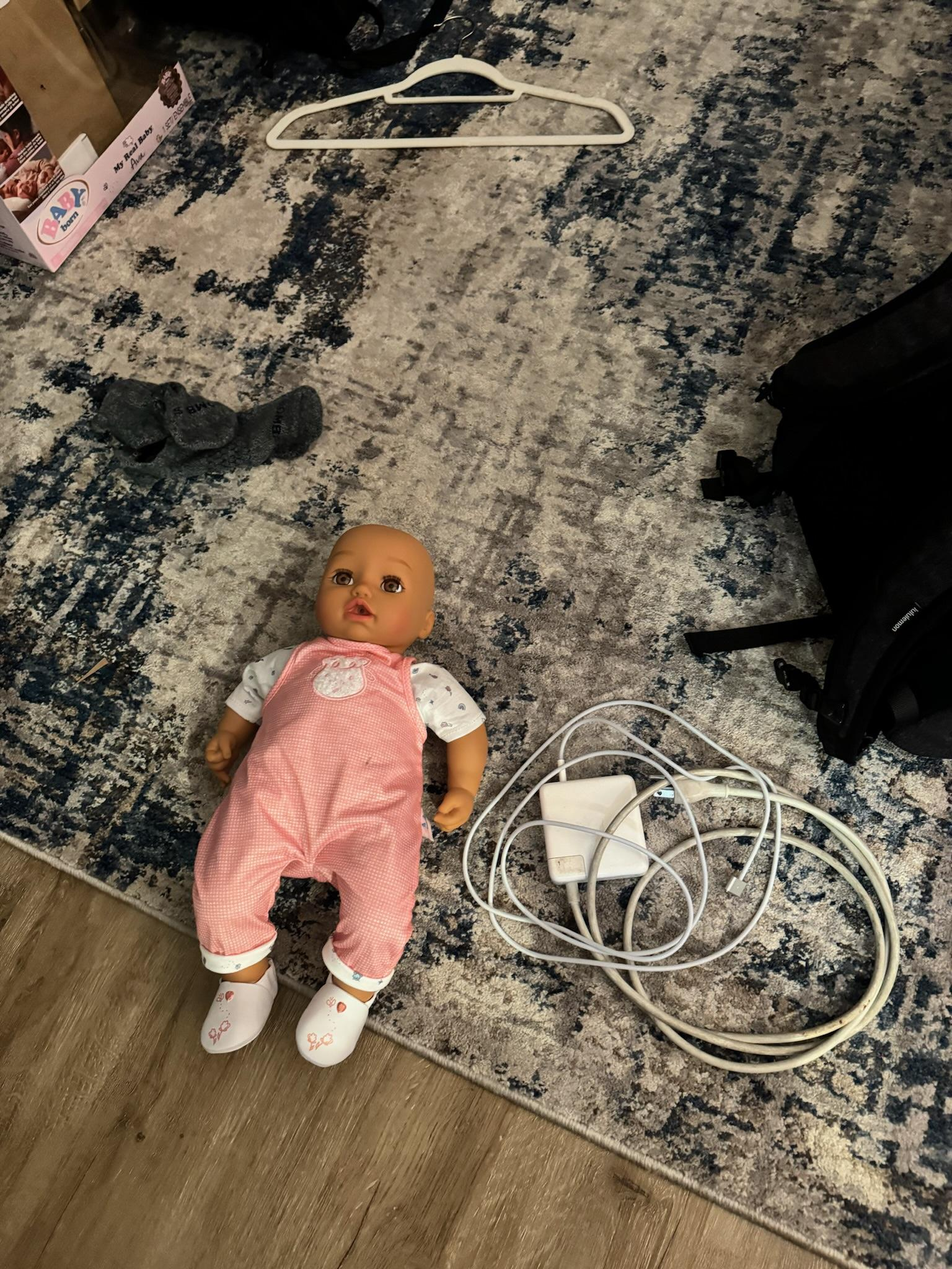baby: (171, 510, 483, 1082)
